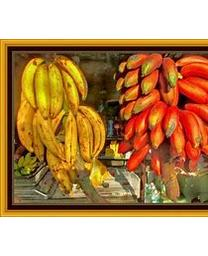banana: (18, 56, 107, 189)
